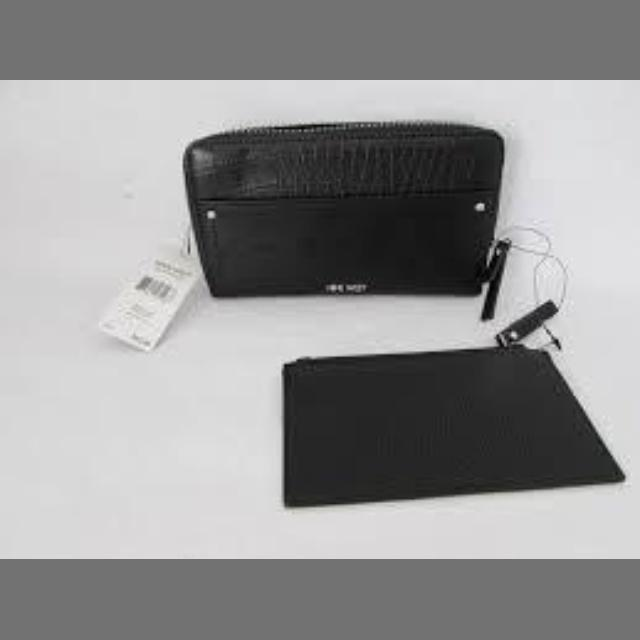Wallet: (184, 118, 502, 298)
